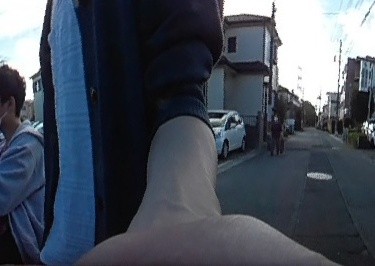person: (269, 112, 281, 156)
